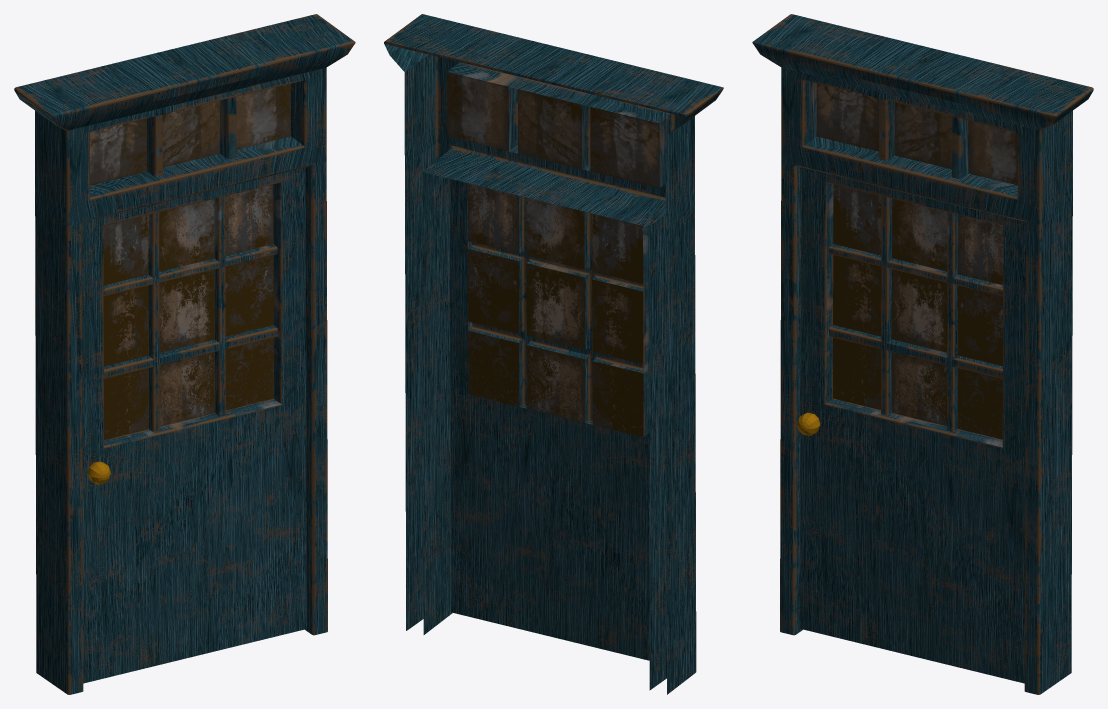
File: shop_front_door.glb
The picture shows the model from 3 angles, left to right: view 1: azimuth 30°, elevation 25°; view 2: azimuth 150°, elevation 25°; view 3: azimuth 330°, elevation 25°; orthographic projection.
Visible parts, largest first — view 1: door; view 2: door; view 3: door.
Boxes of the visible parts, x1,y1,x2,y2 form: door: (14, 14, 355, 694); door: (384, 14, 723, 694); door: (752, 14, 1093, 694).
Bounding box in the file's own units: 158 × 293 × 35.26.
Materials: 1 (1 with a texture image).
